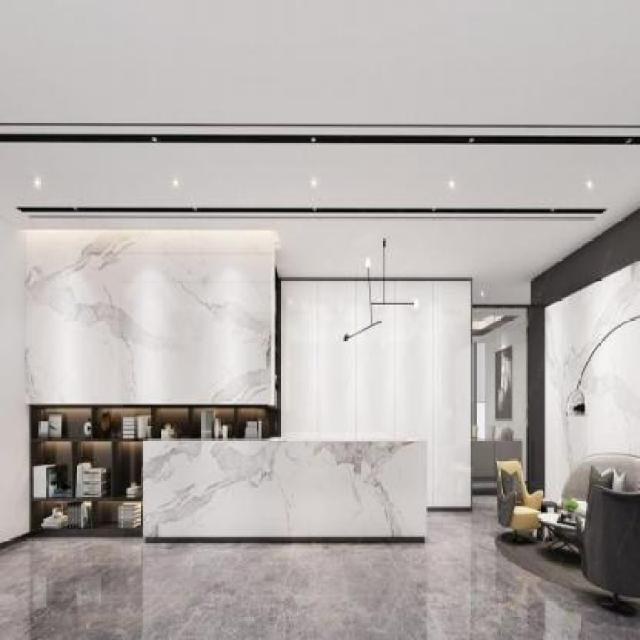frontdesk: (137, 420, 435, 555)
